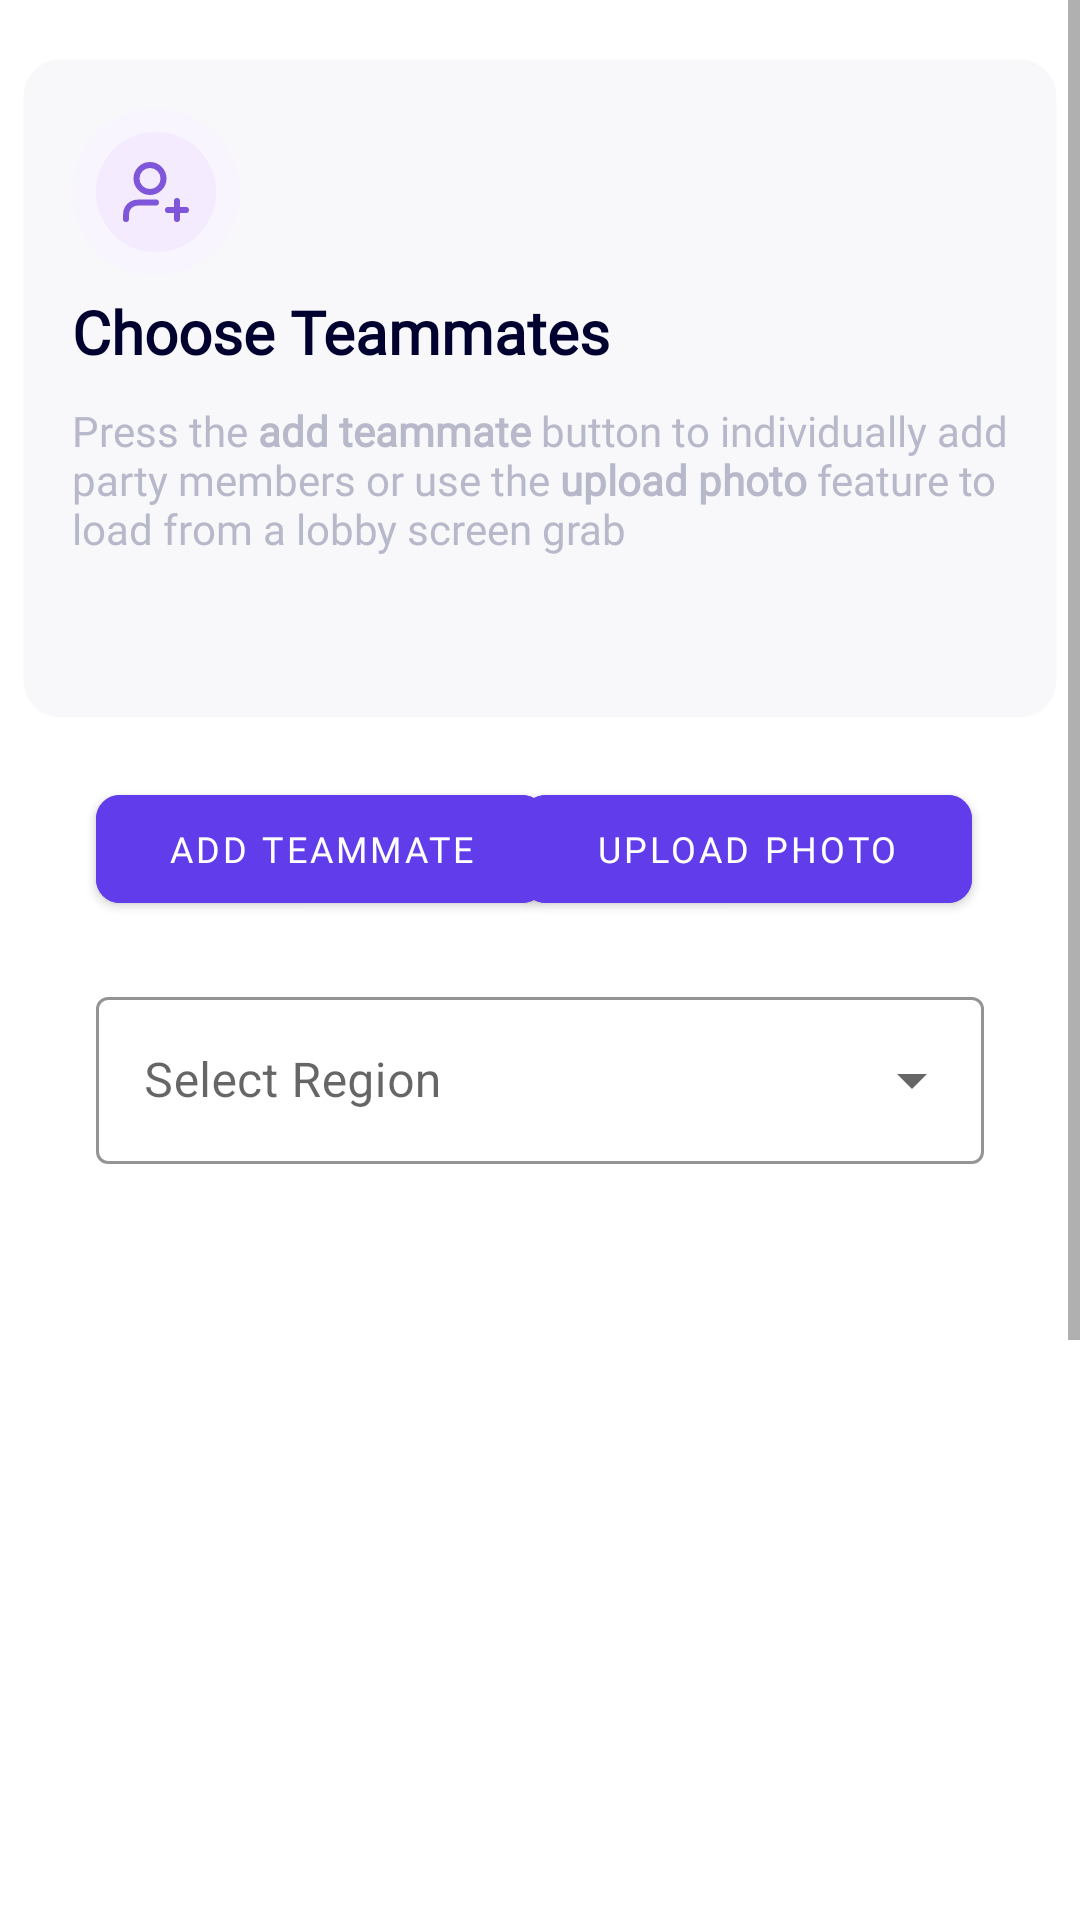

Screen size 1080px×1920px. Icon name, then its center in pixels as [x,y]:
add teammates: [156,192]
